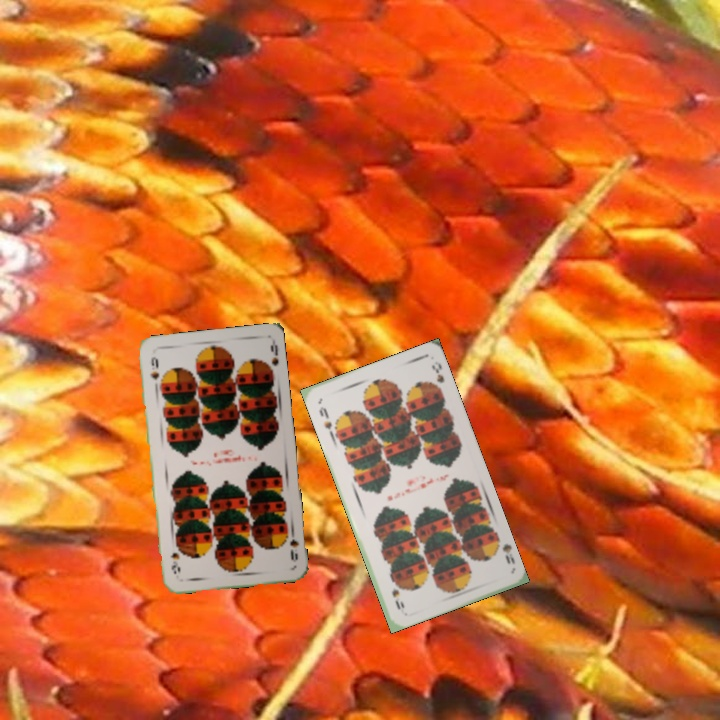S9: (489, 533, 518, 567), (146, 353, 163, 391), (286, 525, 301, 564), (315, 403, 335, 432)
